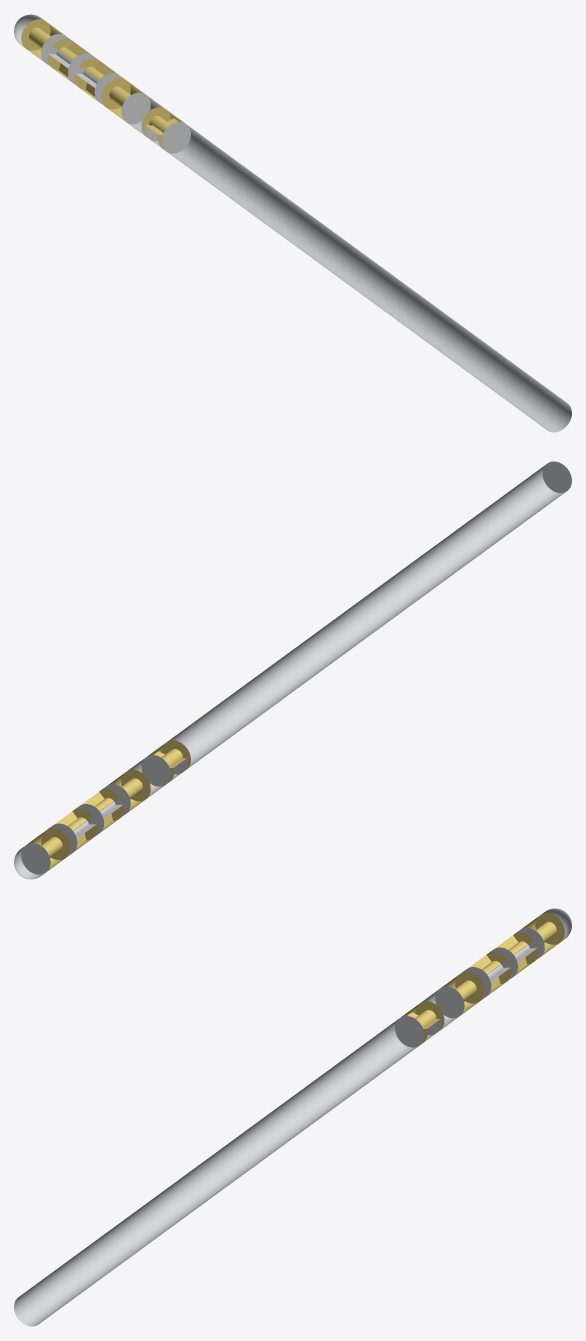
File: abbott-6172-directed-lead.glb
The picture shows the model from 3 angles, top to bottom: view 1: azimuth 30°, elevation 25°; view 2: azimuth 150°, elevation 25°; view 3: azimuth 330°, elevation 25°; orthographic projection.
Parts seen in each view (by area): view 1: insulation-17, insulation-15, contact-1, contact-8, contact-9; view 2: insulation-17, insulation-1, contact-1, contact-8, insulation-15, contact-9; view 3: insulation-17, insulation-15, contact-1, contact-8, contact-9.
Part boxes in pixels (left/top/right/bottom): insulation-17: left=161, top=122, right=571, bottom=432; insulation-15: left=121, top=92, right=164, bottom=135; contact-1: left=21, top=19, right=63, bottom=61; contact-8: left=101, top=78, right=144, bottom=120; contact-9: left=141, top=107, right=184, bottom=149; insulation-17: left=167, top=461, right=571, bottom=768; insulation-1: left=14, top=843, right=50, bottom=879; contact-1: left=28, top=828, right=70, bottom=870; contact-8: left=107, top=769, right=150, bottom=812; insulation-15: left=128, top=755, right=170, bottom=798; contact-9: left=147, top=740, right=190, bottom=783; insulation-17: left=14, top=1016, right=424, bottom=1326; insulation-15: left=421, top=986, right=464, bottom=1029; contact-1: left=522, top=913, right=564, bottom=955; contact-8: left=441, top=972, right=484, bottom=1014; contact-9: left=401, top=1001, right=444, bottom=1043.
Size of the model in its own units: 0.00127 by 0.00127 by 0.04.
